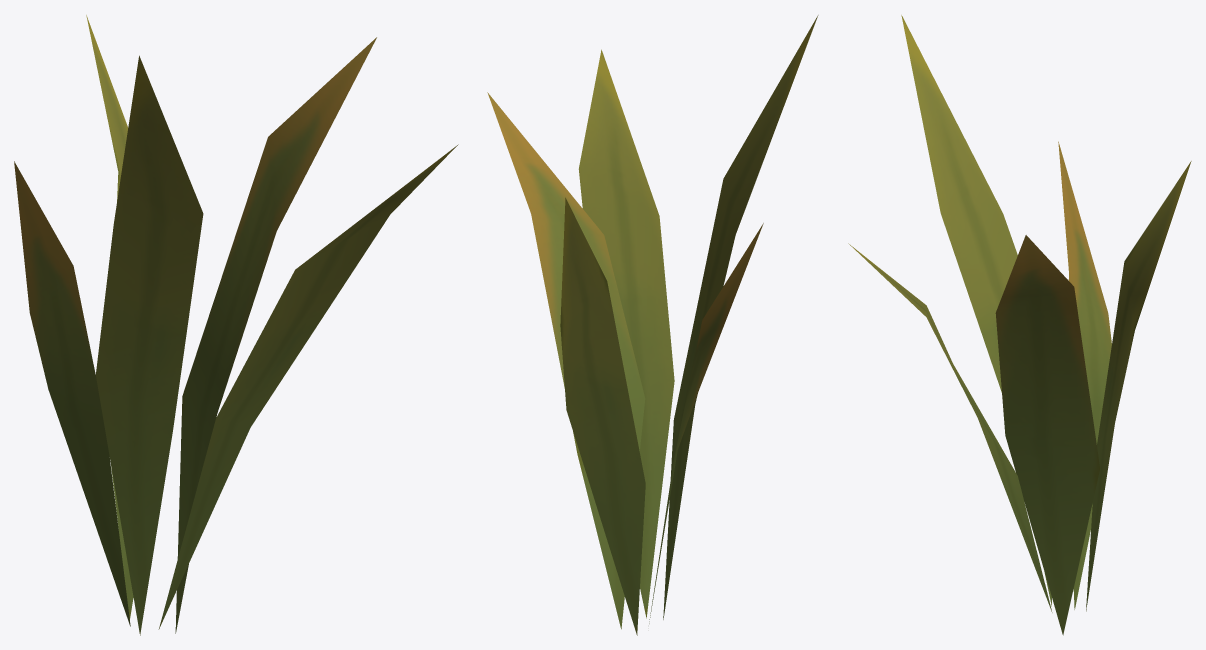
The model's file is grass_4.obj.
3 renders of one model, left to right at view 1: azimuth 30°, elevation 25°; view 2: azimuth 150°, elevation 25°; view 3: azimuth 270°, elevation 25°, orthographic. The views are drawn at different scales.
Parts seen in each view (by area): view 1: grass_4; view 2: grass_4; view 3: grass_4.
Boxes of the visible parts, bbox=[...] form: grass_4: bbox=[14, 15, 458, 635]; grass_4: bbox=[487, 15, 818, 635]; grass_4: bbox=[848, 15, 1191, 635].
Size of the model in its own units: 2.25 by 4.28 by 2.35.
Materials: 1 (1 with a texture image).
